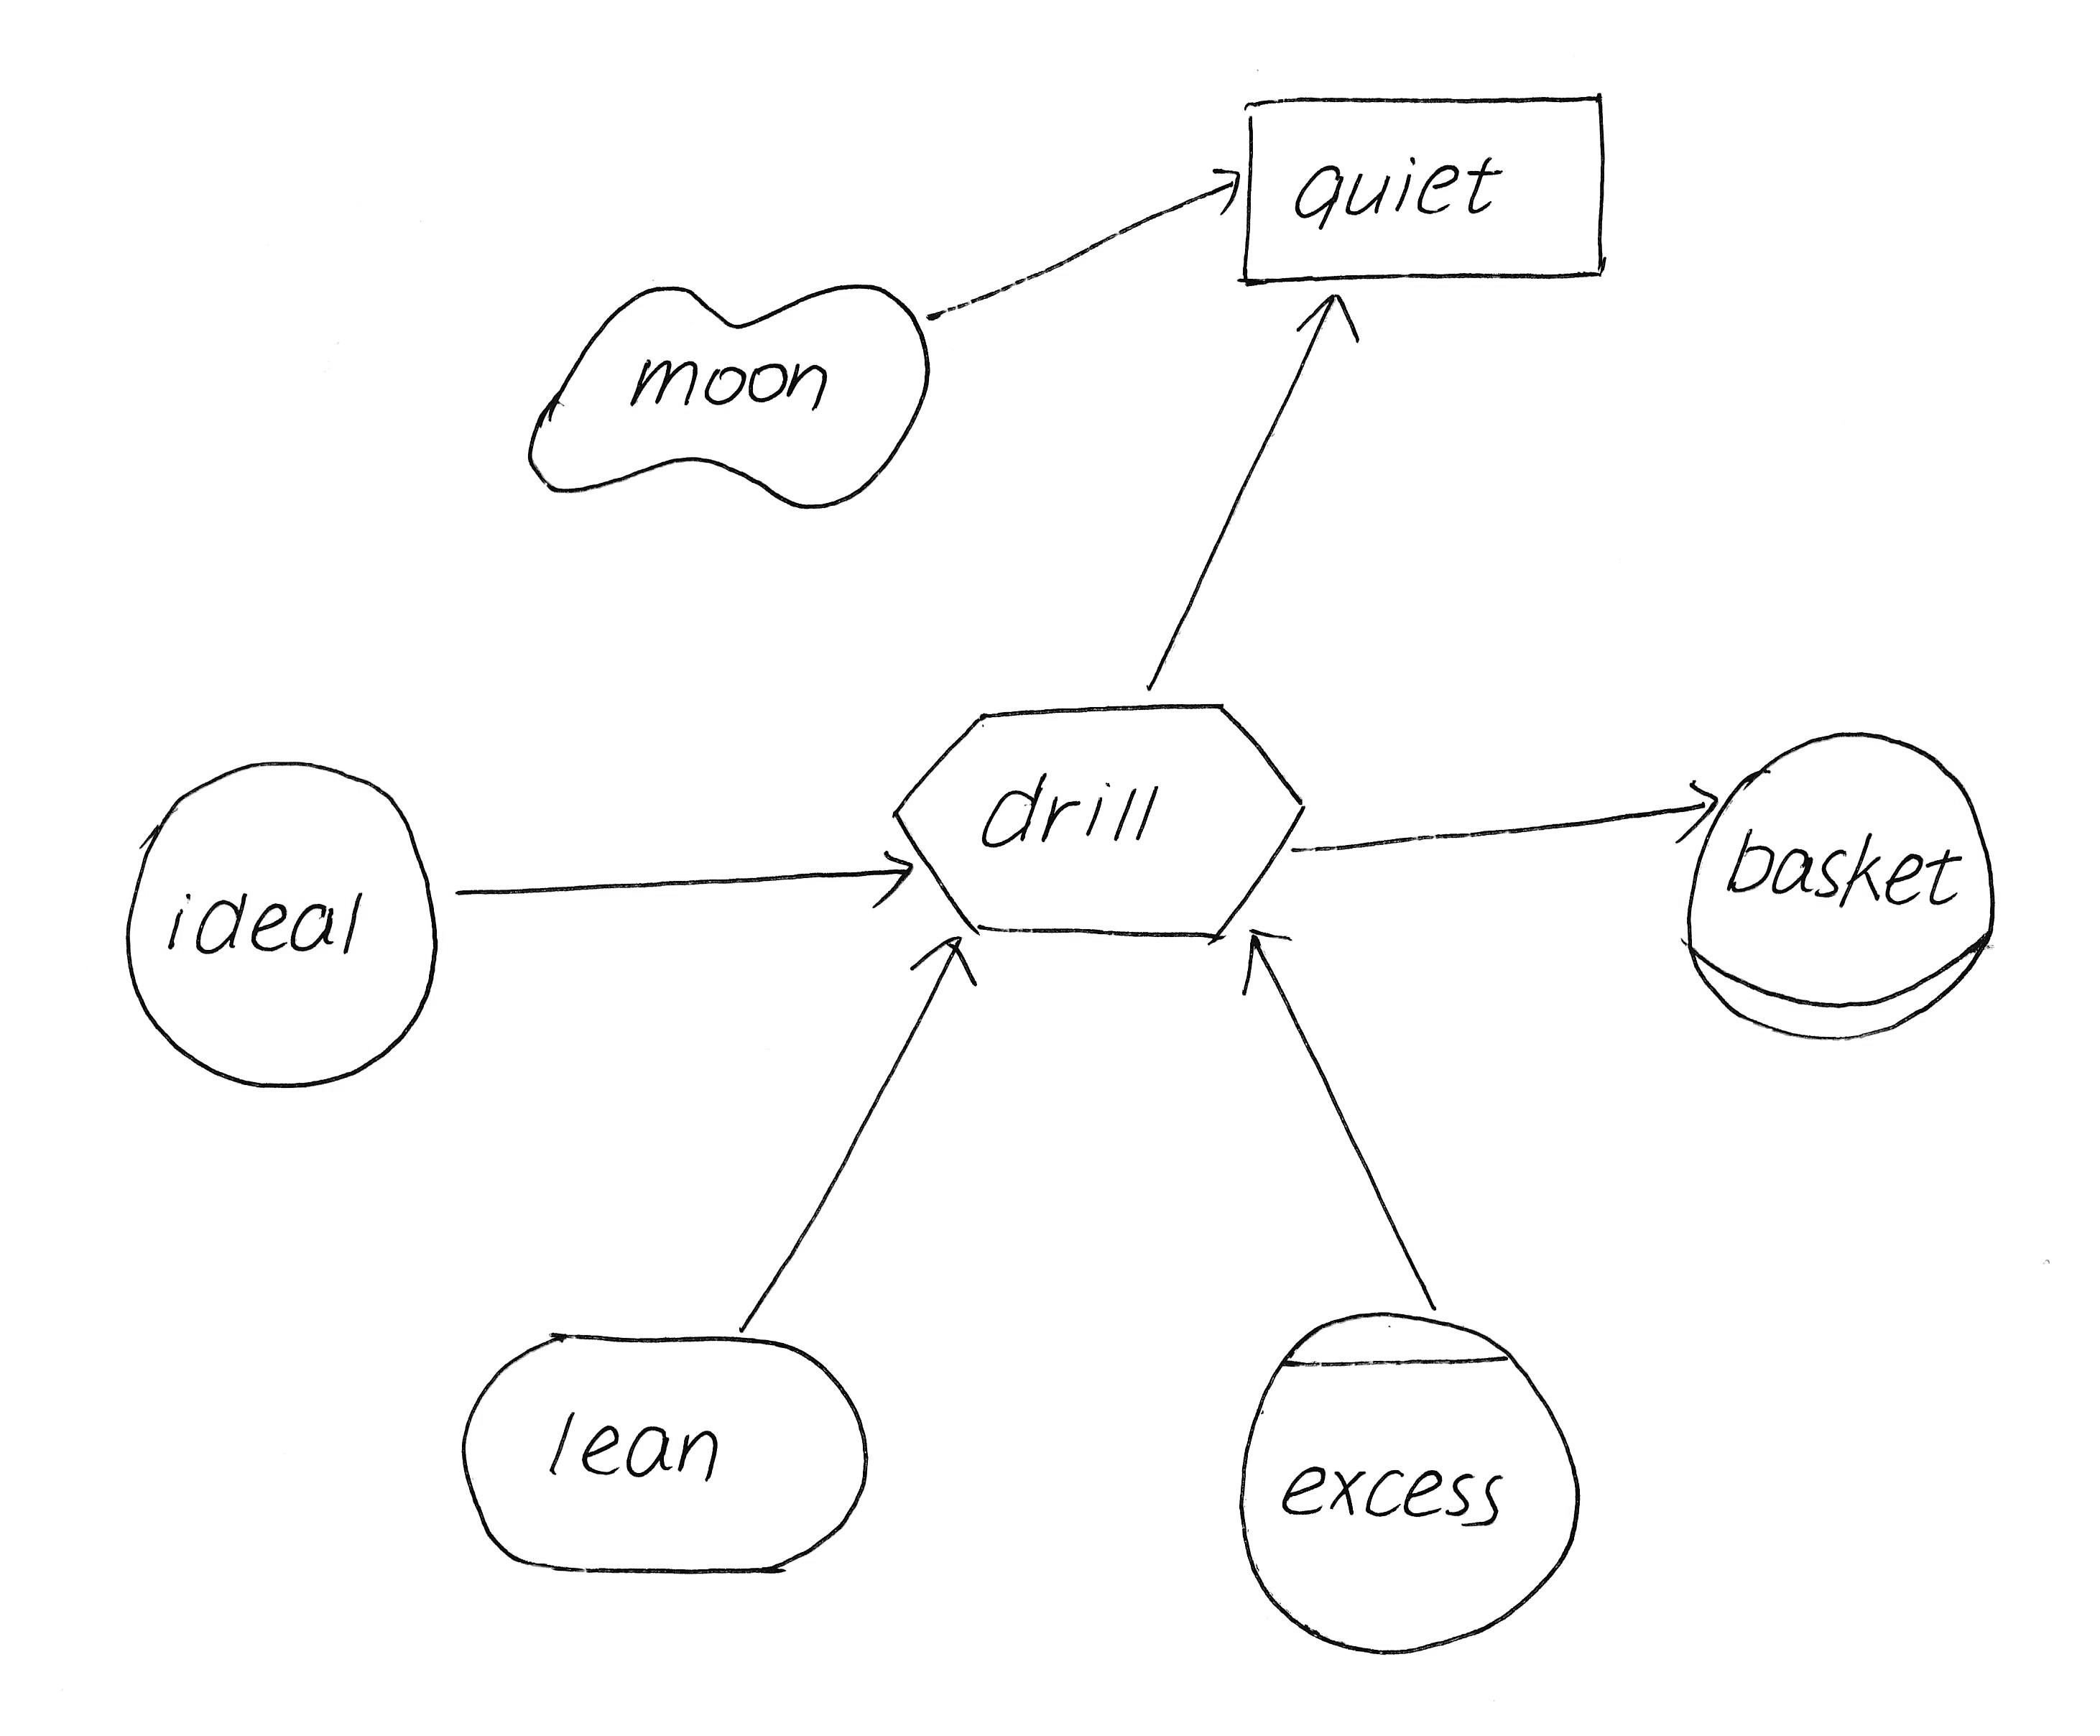actor: (106, 742, 457, 1101)
agent: (1217, 1289, 1606, 1675)
arrow: (1223, 907, 1308, 1003), (1292, 279, 1366, 373), (903, 928, 984, 1005), (1667, 768, 1730, 850), (869, 837, 926, 921), (1198, 145, 1249, 223)
goal: (436, 1307, 890, 1589)
quality: (506, 265, 951, 522)
resource: (1219, 70, 1631, 307)
role: (1669, 714, 2013, 1054)
task: (877, 684, 1322, 960)
